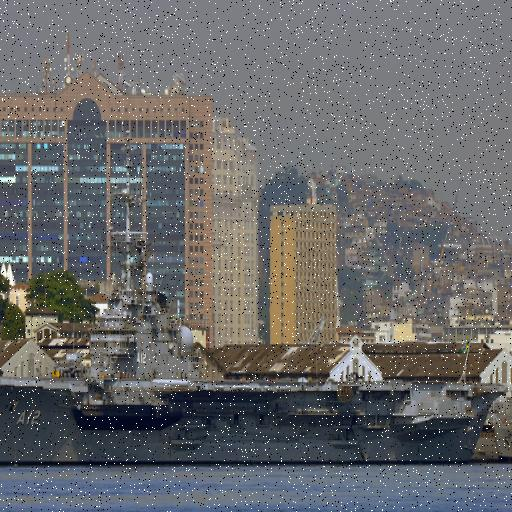Portanaves: (1, 143, 510, 474)
